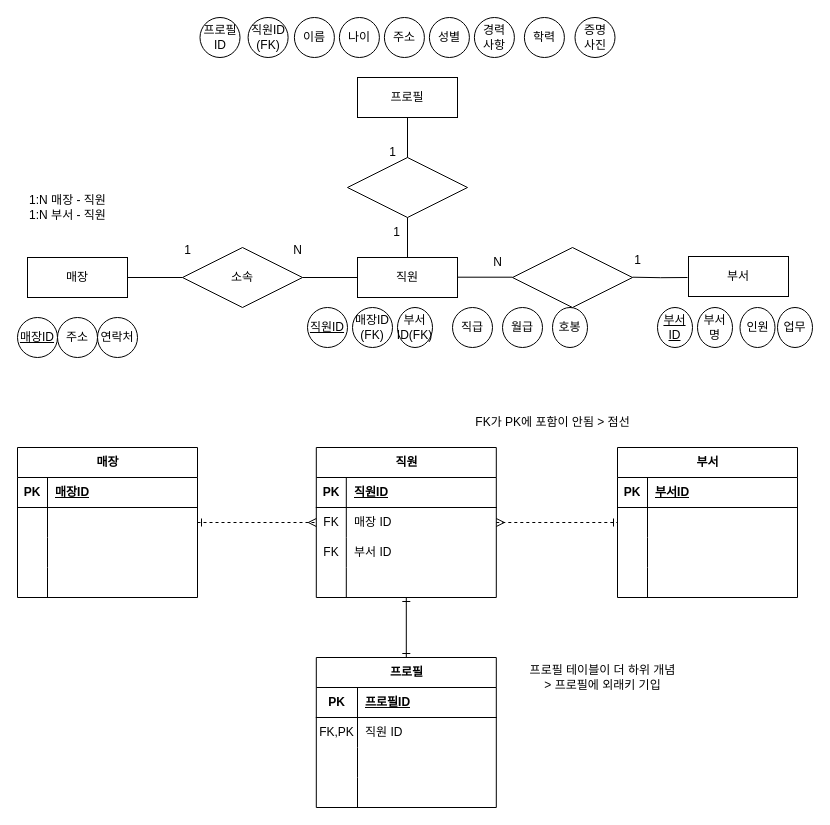
The diagram is 830 pixels wide and 825 high, and some of its shapes have lost their labels. The shapes that lost their labels are listed below. From the top down, each one's centre as x and y in pixels, then its label:
At [407,187]: "개인정보".
At [572,277]: "포함".
